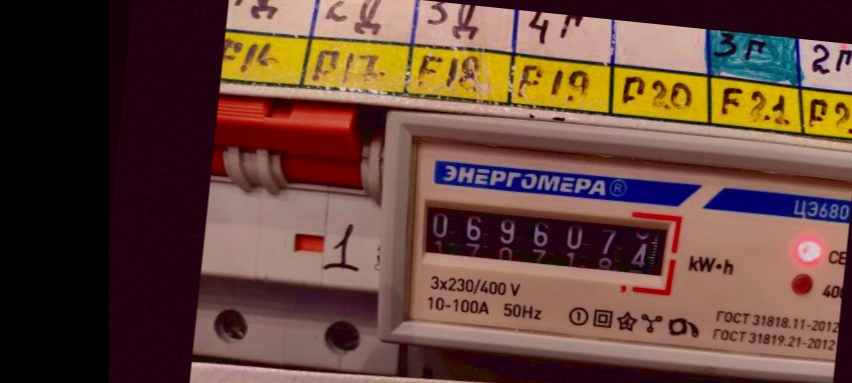0: (429, 212, 453, 242), (565, 223, 586, 253), (465, 215, 485, 243)
4: (630, 242, 650, 272)
6: (530, 219, 551, 251)
7: (598, 227, 619, 258)
9: (498, 218, 518, 247)
screen: (405, 187, 686, 298)
